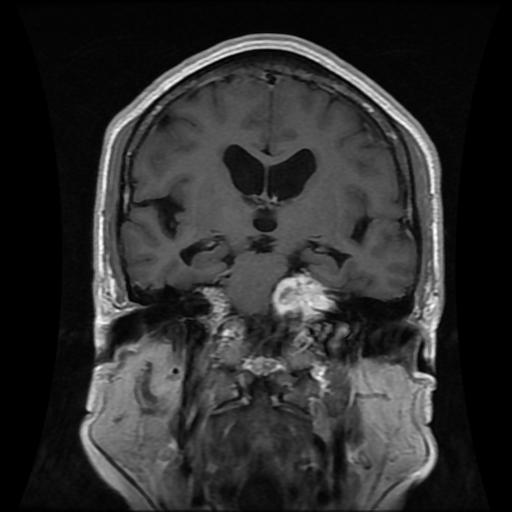Menigiomia_tumour: (270, 270, 333, 318)
